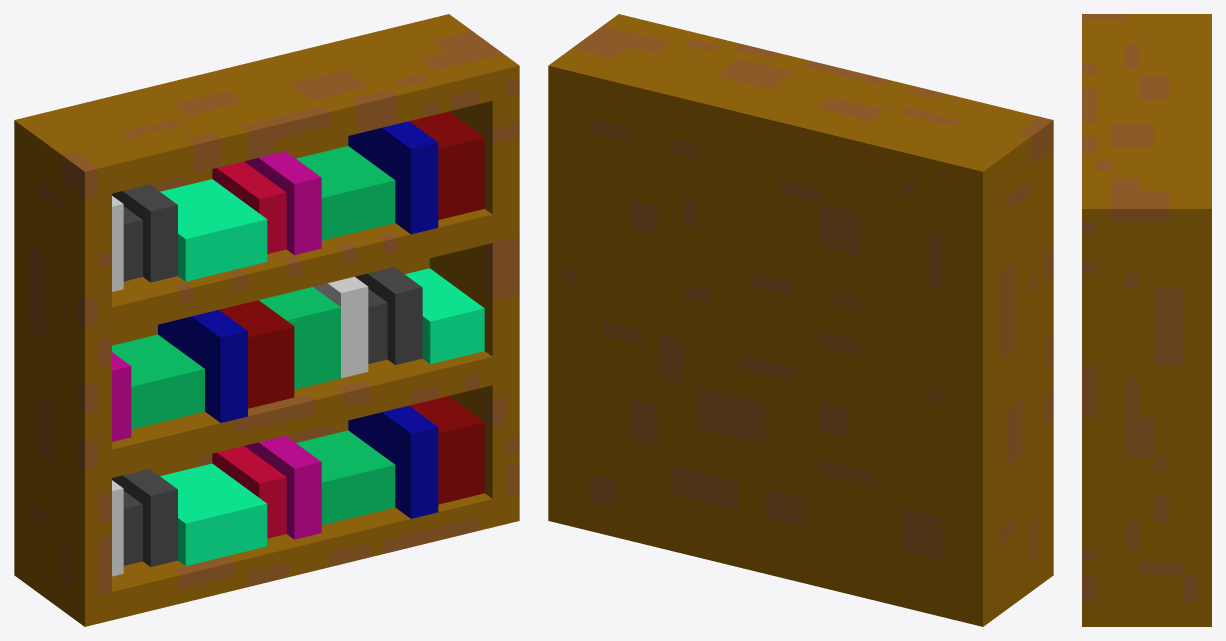
File: shelf.obj
The picture shows the model from 3 angles, left to right: view 1: azimuth 30°, elevation 25°; view 2: azimuth 150°, elevation 25°; view 3: azimuth 270°, elevation 25°; orthographic projection. The views are drawn at different scales.
Bounding box in the file's own units: 3.2 × 3.2 × 0.9.
1 material, 1 textured.
